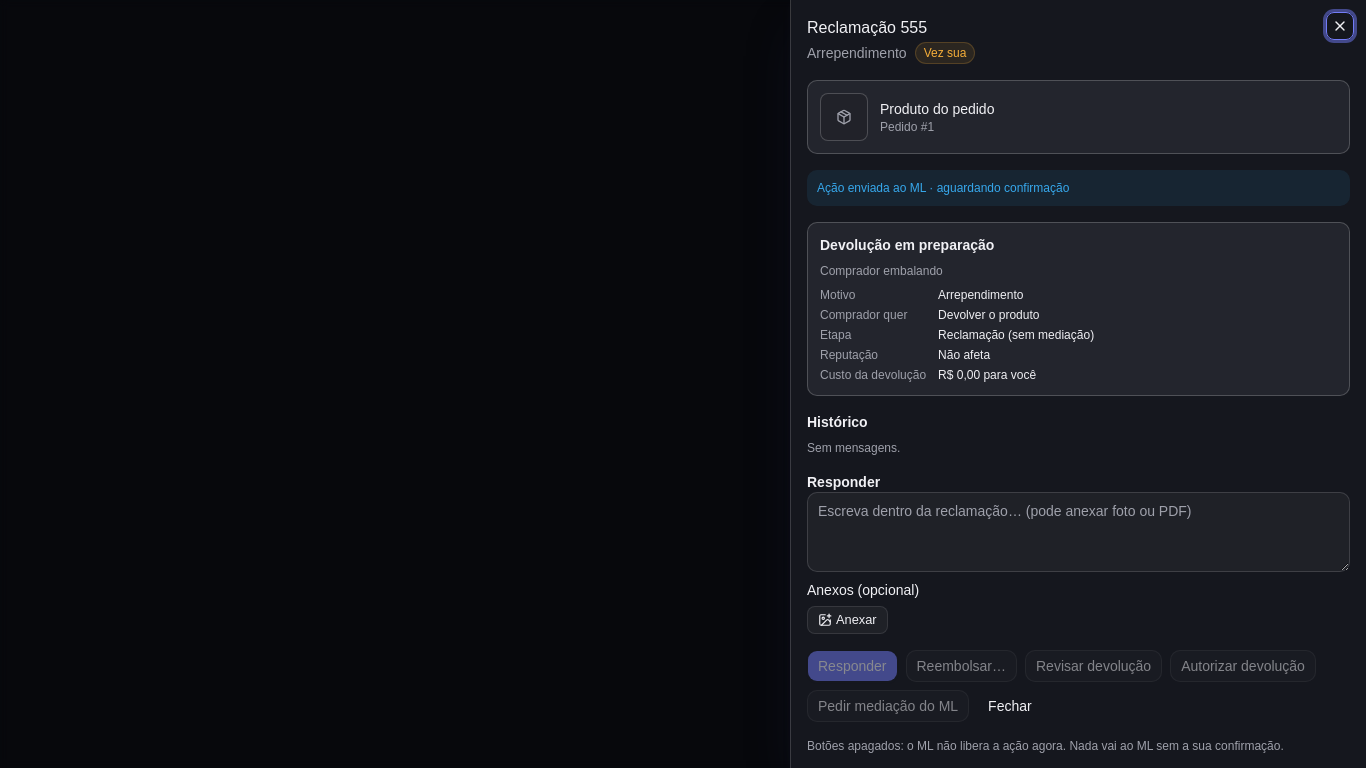
it: tentativa ativa trava o recurso › detalhe: botões seguem available_actions e travam o recurso com tentativa ativa
Expected: the text "Devolução em preparação" is shown, [820,237,994,253]
Expected: the button "Reembolsar…" is disabled, [906,650,1017,682]
mensagem é outro recurso: segue liberado assim que houver texto
Type "Olá" into the text box labelled "Responder" at (1078, 532), box [807,492,1350,572]
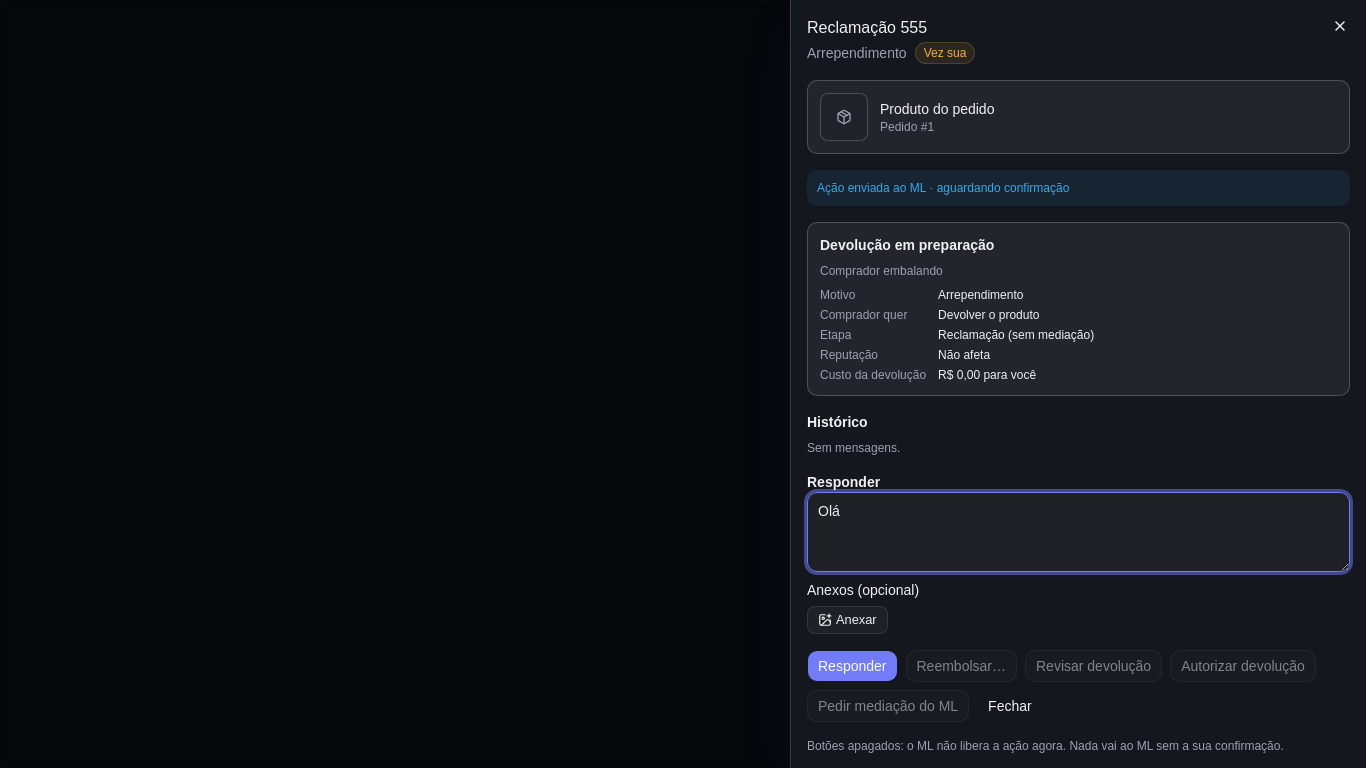
Result: the button "Responder" is enabled at [807,650,898,682]
